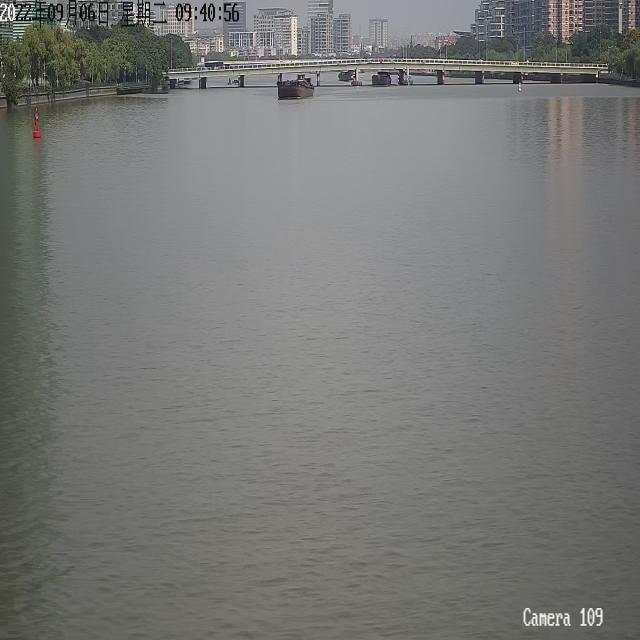ship: (276, 74, 313, 96), (371, 70, 391, 84), (338, 68, 354, 80), (227, 76, 238, 84)
